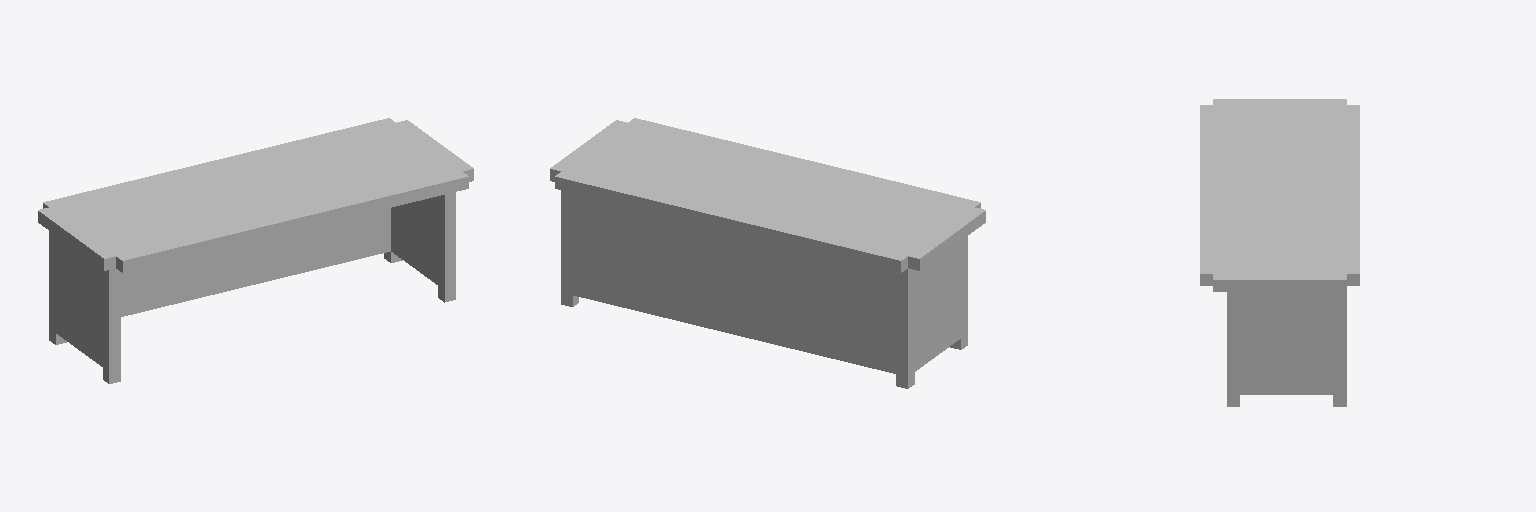
File: 3D Voxel Office Pack-74.obj
The picture shows the model from 3 angles: view 1: azimuth 30°, elevation 25°; view 2: azimuth 150°, elevation 25°; view 3: azimuth 270°, elevation 25°; orthographic projection.
Visible parts, largest first — view 1: object 1; view 2: object 1; view 3: object 1.
Boxes of the visible parts, <box> form: object 1: <box>38,118,473,383</box>; object 1: <box>550,118,985,388</box>; object 1: <box>1200,99,1359,406</box>.
Bounding box in the file's own units: 3.2 × 1.1 × 1.2.